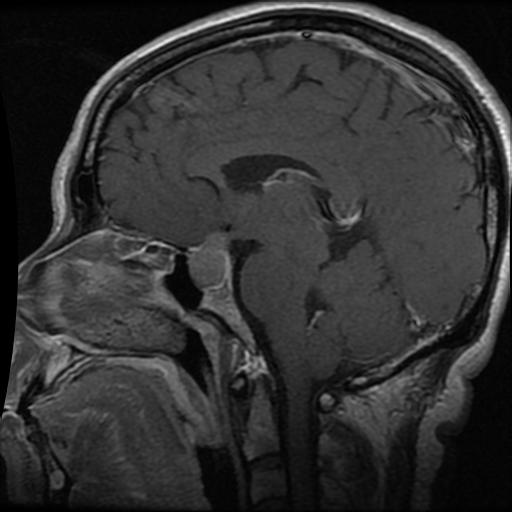Pituirity_tumour: (187, 232, 230, 287)
